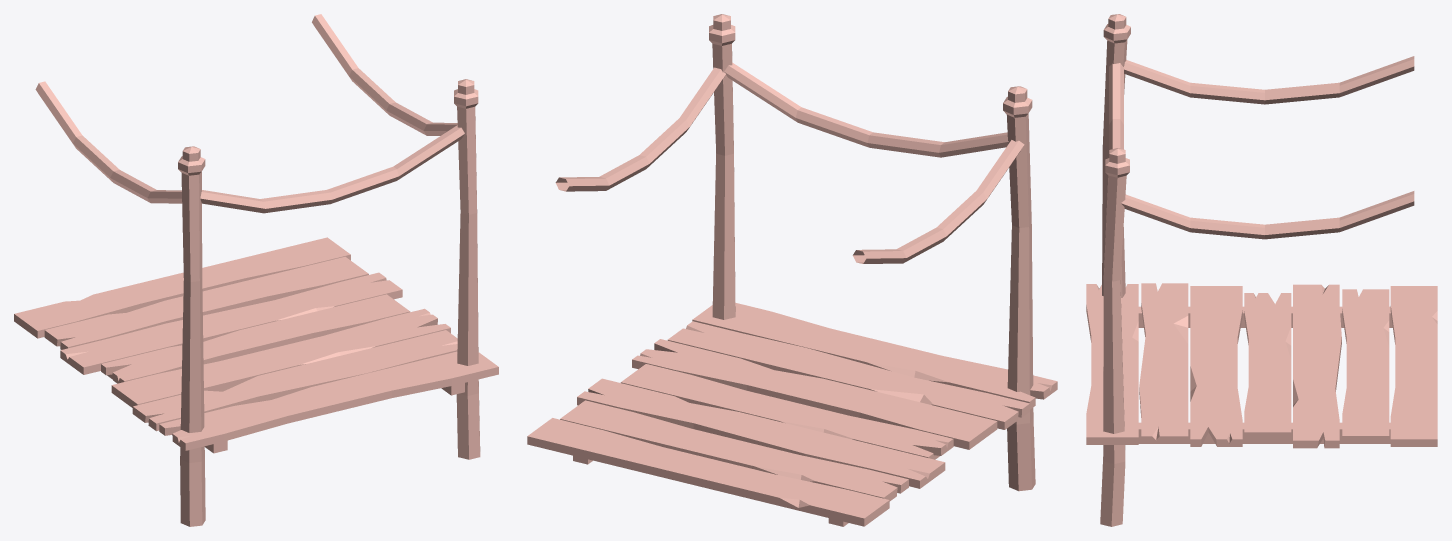
Rendered from Mega_Asset_s_Pack_Cube_012.FBX.
The picture shows the model from 3 angles, left to right: view 1: azimuth 30°, elevation 25°; view 2: azimuth 150°, elevation 25°; view 3: azimuth 270°, elevation 25°; orthographic projection. The views are drawn at different scales.
Visible parts, largest first — view 1: Mega_Asset_s_Pack_Cube_012; view 2: Mega_Asset_s_Pack_Cube_012; view 3: Mega_Asset_s_Pack_Cube_012.
Boxes of the visible parts, left/top/right/bottom form: Mega_Asset_s_Pack_Cube_012: left=14, top=14, right=498, bottom=526; Mega_Asset_s_Pack_Cube_012: left=527, top=14, right=1057, bottom=526; Mega_Asset_s_Pack_Cube_012: left=1086, top=14, right=1437, bottom=526.
Size of what is drawn, in the model's own units: 300 by 283 by 331.
